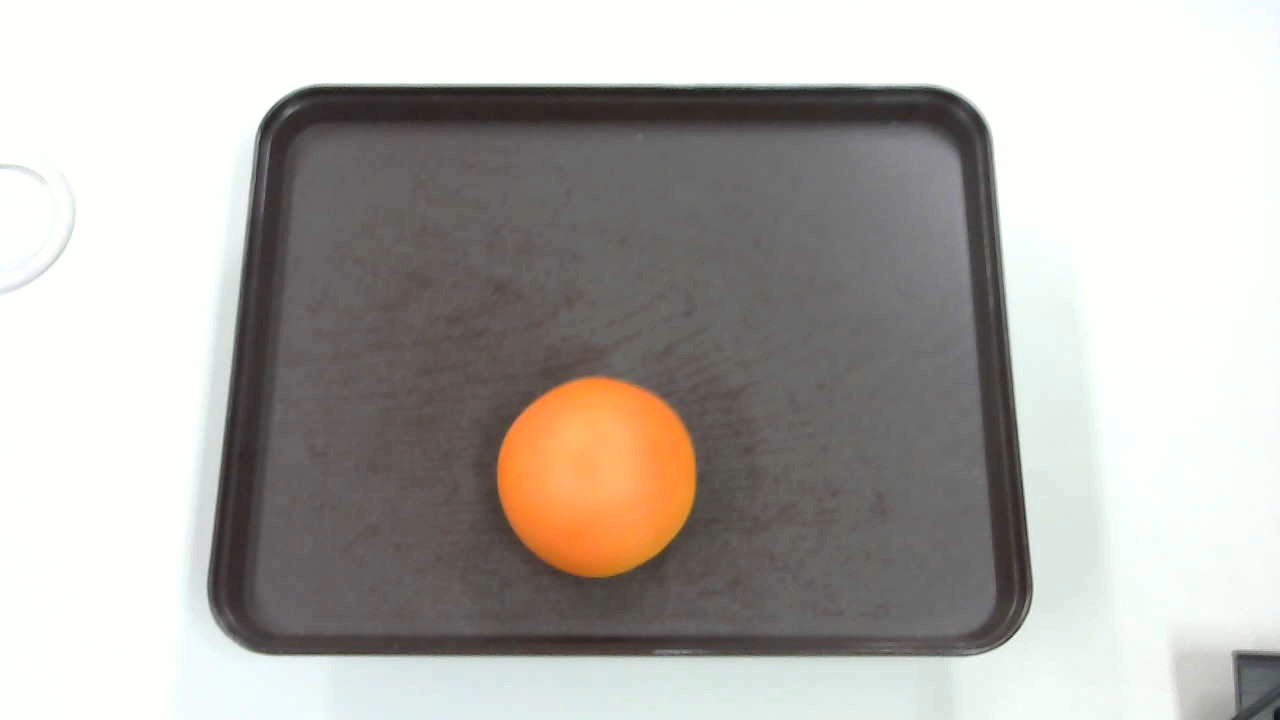bun: (495, 376, 696, 579)
